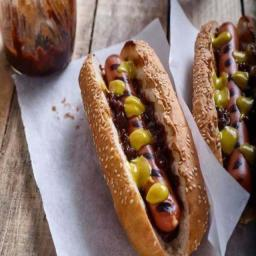hotdog: (79, 32, 203, 256), (198, 0, 256, 195)
